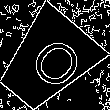O_SW: (14, 28, 81, 95)
